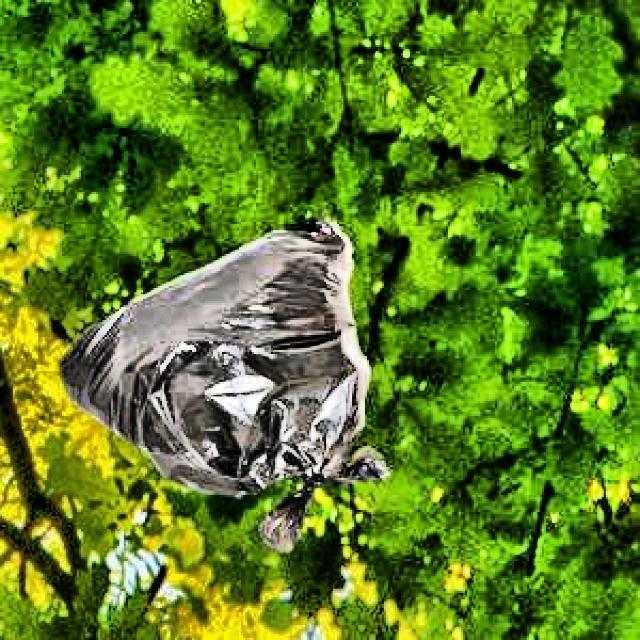Trashbag: (58, 215, 404, 562)
